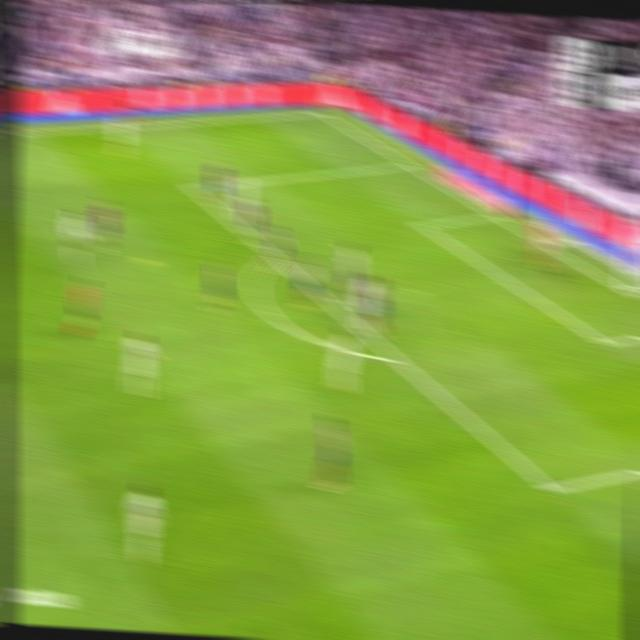bigarea_bottom_inner: (539, 472, 562, 505)
bigarea_top_inner: (186, 178, 203, 197)
bigarea_top_outter: (399, 156, 415, 170)
bottom_arc_area_intersection: (385, 347, 406, 371)
corner: (313, 106, 331, 116)
smallarea_bottom_inner: (595, 331, 616, 353)
smallarea_top_inner: (416, 217, 433, 233)
top_arc_area_intersection: (264, 248, 284, 266)
